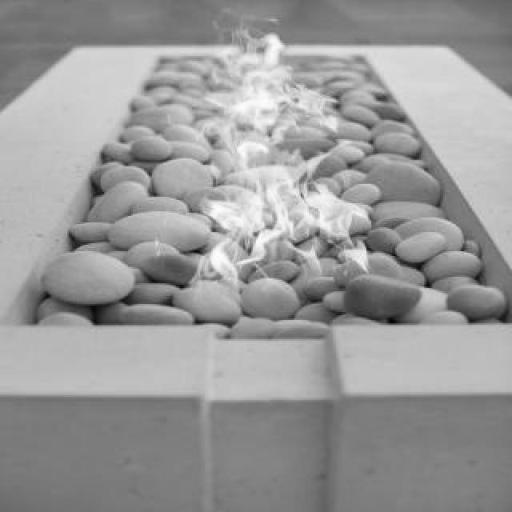smoke: (200, 14, 352, 288)
